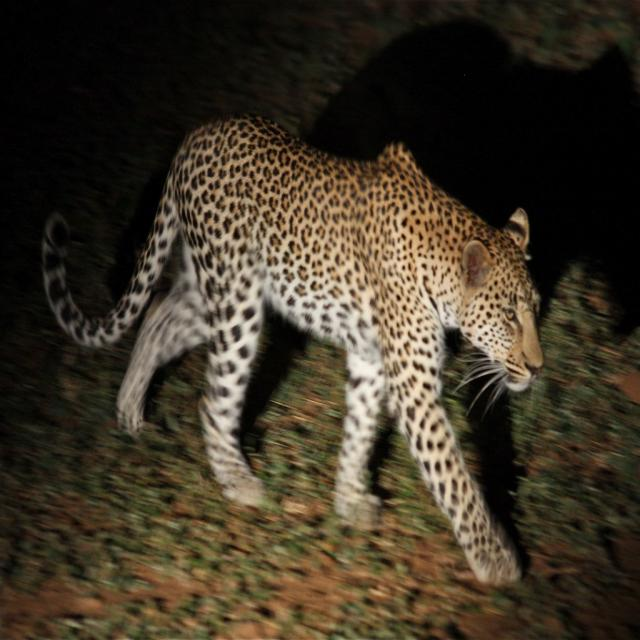Cheetah: (40, 110, 545, 589)
